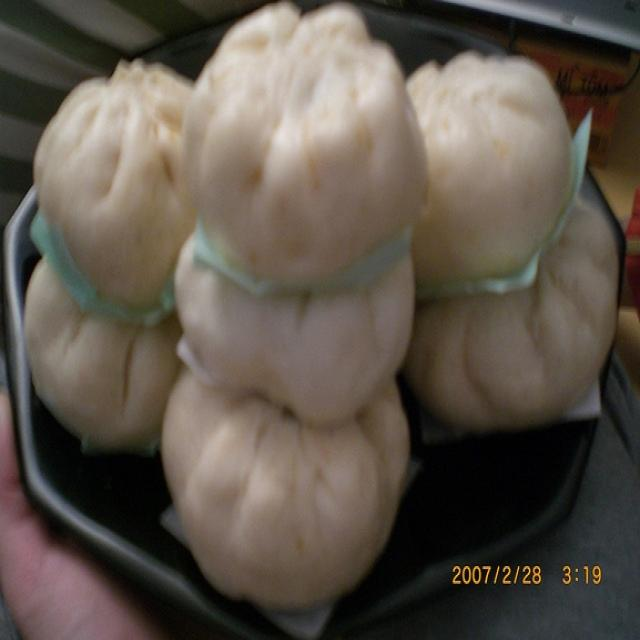带馅早点: (5, 15, 629, 621)
